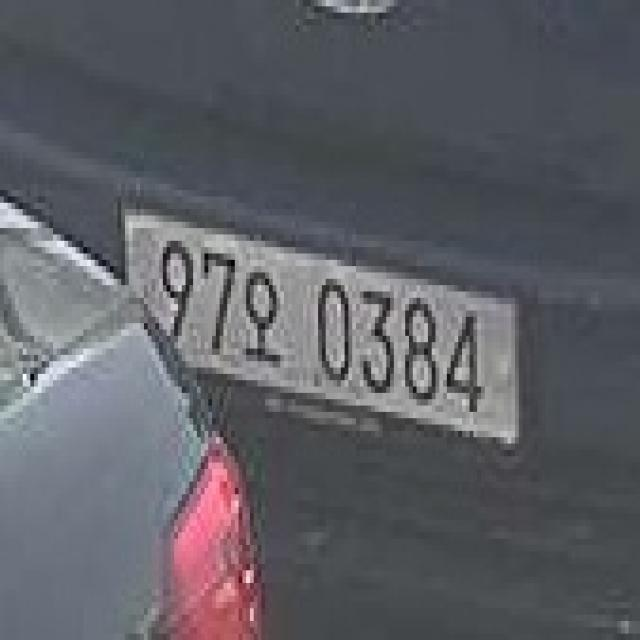0: (314, 264, 354, 388)
3: (358, 275, 396, 397)
4: (447, 292, 488, 418)
7: (200, 235, 238, 354)
8: (402, 285, 441, 408)
9: (158, 230, 194, 336)
license_plate: (122, 191, 529, 458)
o: (244, 256, 282, 370)
